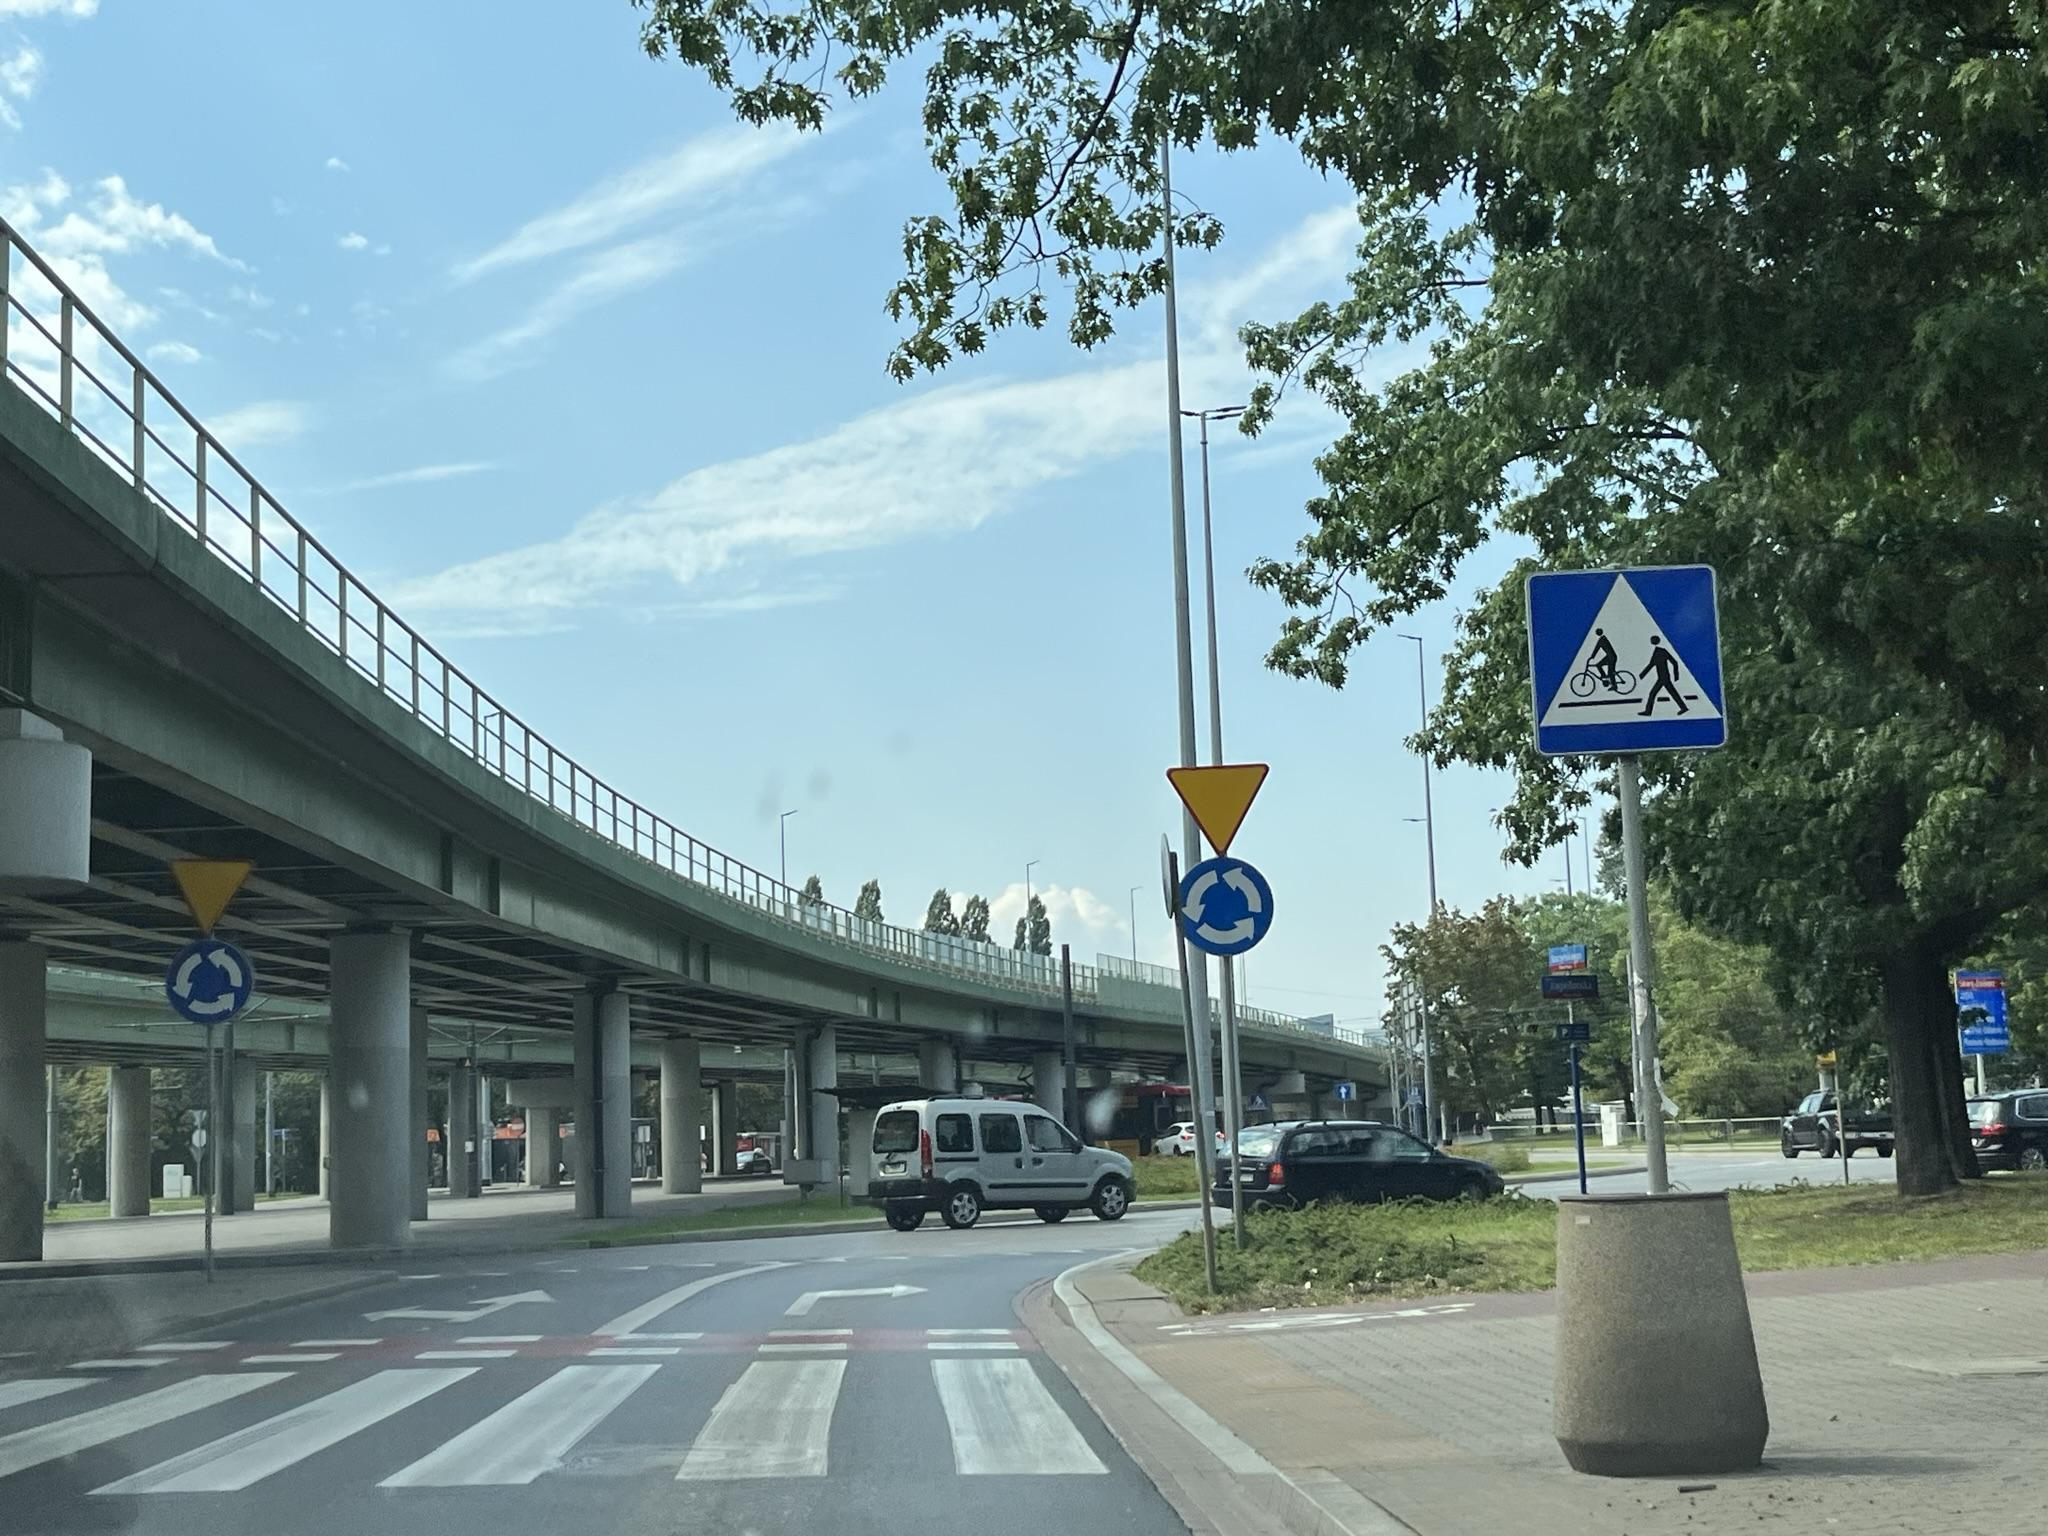information: (1529, 570, 1724, 750)
mandatory: (1174, 855, 1279, 958), (163, 937, 253, 1026)
warning: (1166, 763, 1272, 857), (169, 858, 253, 934)
